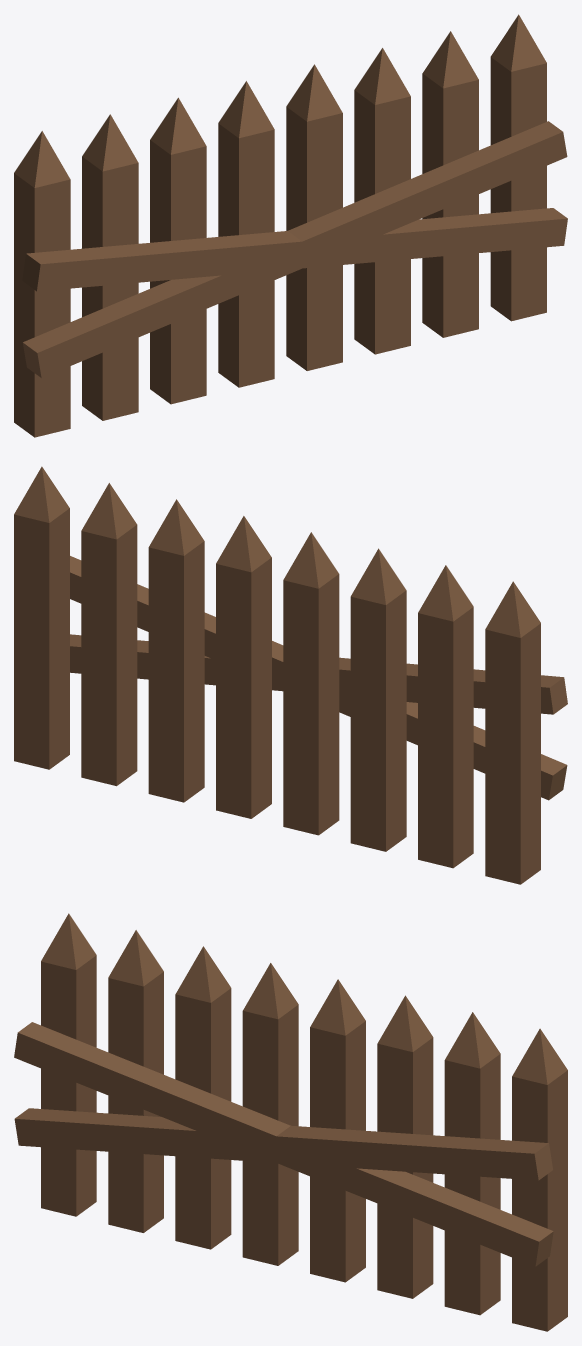
File: fence.glb
The picture shows the model from 3 angles, top to bottom: view 1: azimuth 30°, elevation 25°; view 2: azimuth 150°, elevation 25°; view 3: azimuth 330°, elevation 25°; orthographic projection.
Parts seen in each view (by area): view 1: Fence; view 2: Fence; view 3: Fence.
Part boxes in pixels (bbox=[...]): Fence: bbox=[14, 14, 567, 437]; Fence: bbox=[14, 466, 567, 884]; Fence: bbox=[14, 913, 567, 1331].
Size of the model in its own units: 6.84 by 3.63 by 0.7886.
